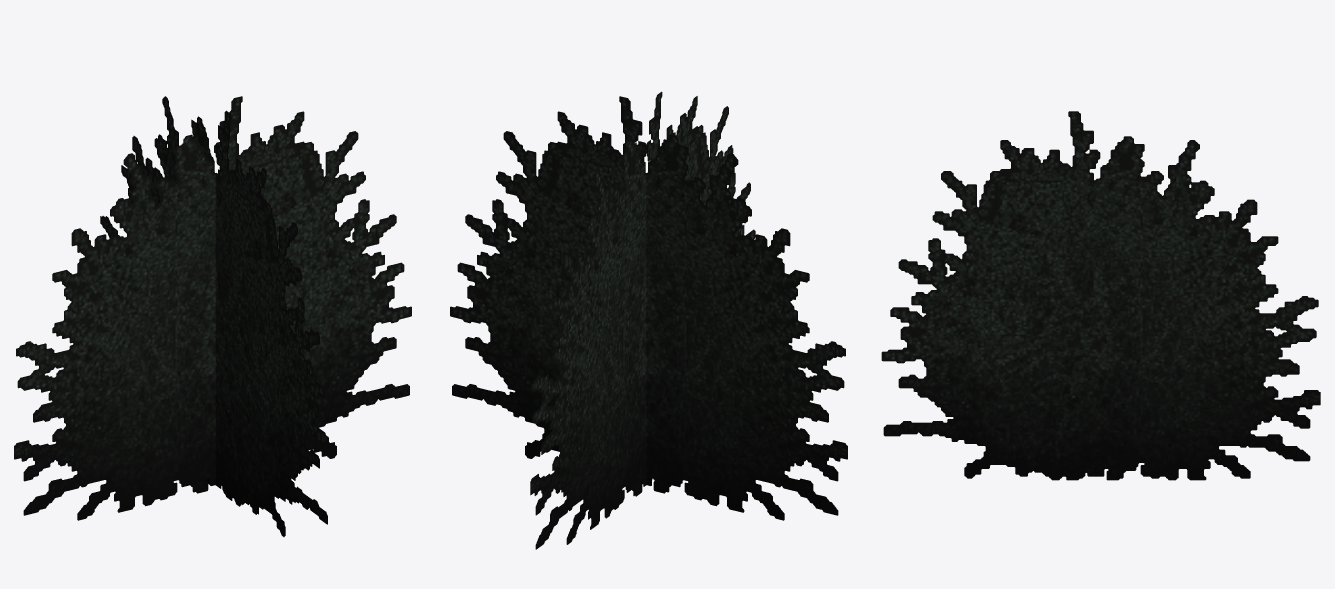
The model's file is SM_EC_Scrubline_Bush_Cross_0.fbx.
The picture shows the model from 3 angles, left to right: view 1: azimuth 30°, elevation 25°; view 2: azimuth 150°, elevation 25°; view 3: azimuth 270°, elevation 25°; orthographic projection. The views are drawn at different scales.
Parts seen in each view (by area): view 1: SM_EC_Scrubline_Bush_Cross_0; view 2: SM_EC_Scrubline_Bush_Cross_0; view 3: SM_EC_Scrubline_Bush_Cross_0.
Boxes of the visible parts, bbox=[...] form: SM_EC_Scrubline_Bush_Cross_0: bbox=[14, 96, 411, 536]; SM_EC_Scrubline_Bush_Cross_0: bbox=[450, 91, 847, 549]; SM_EC_Scrubline_Bush_Cross_0: bbox=[881, 111, 1320, 480].
Size of the model in its own units: 3.27 by 3.27 by 3.03.
